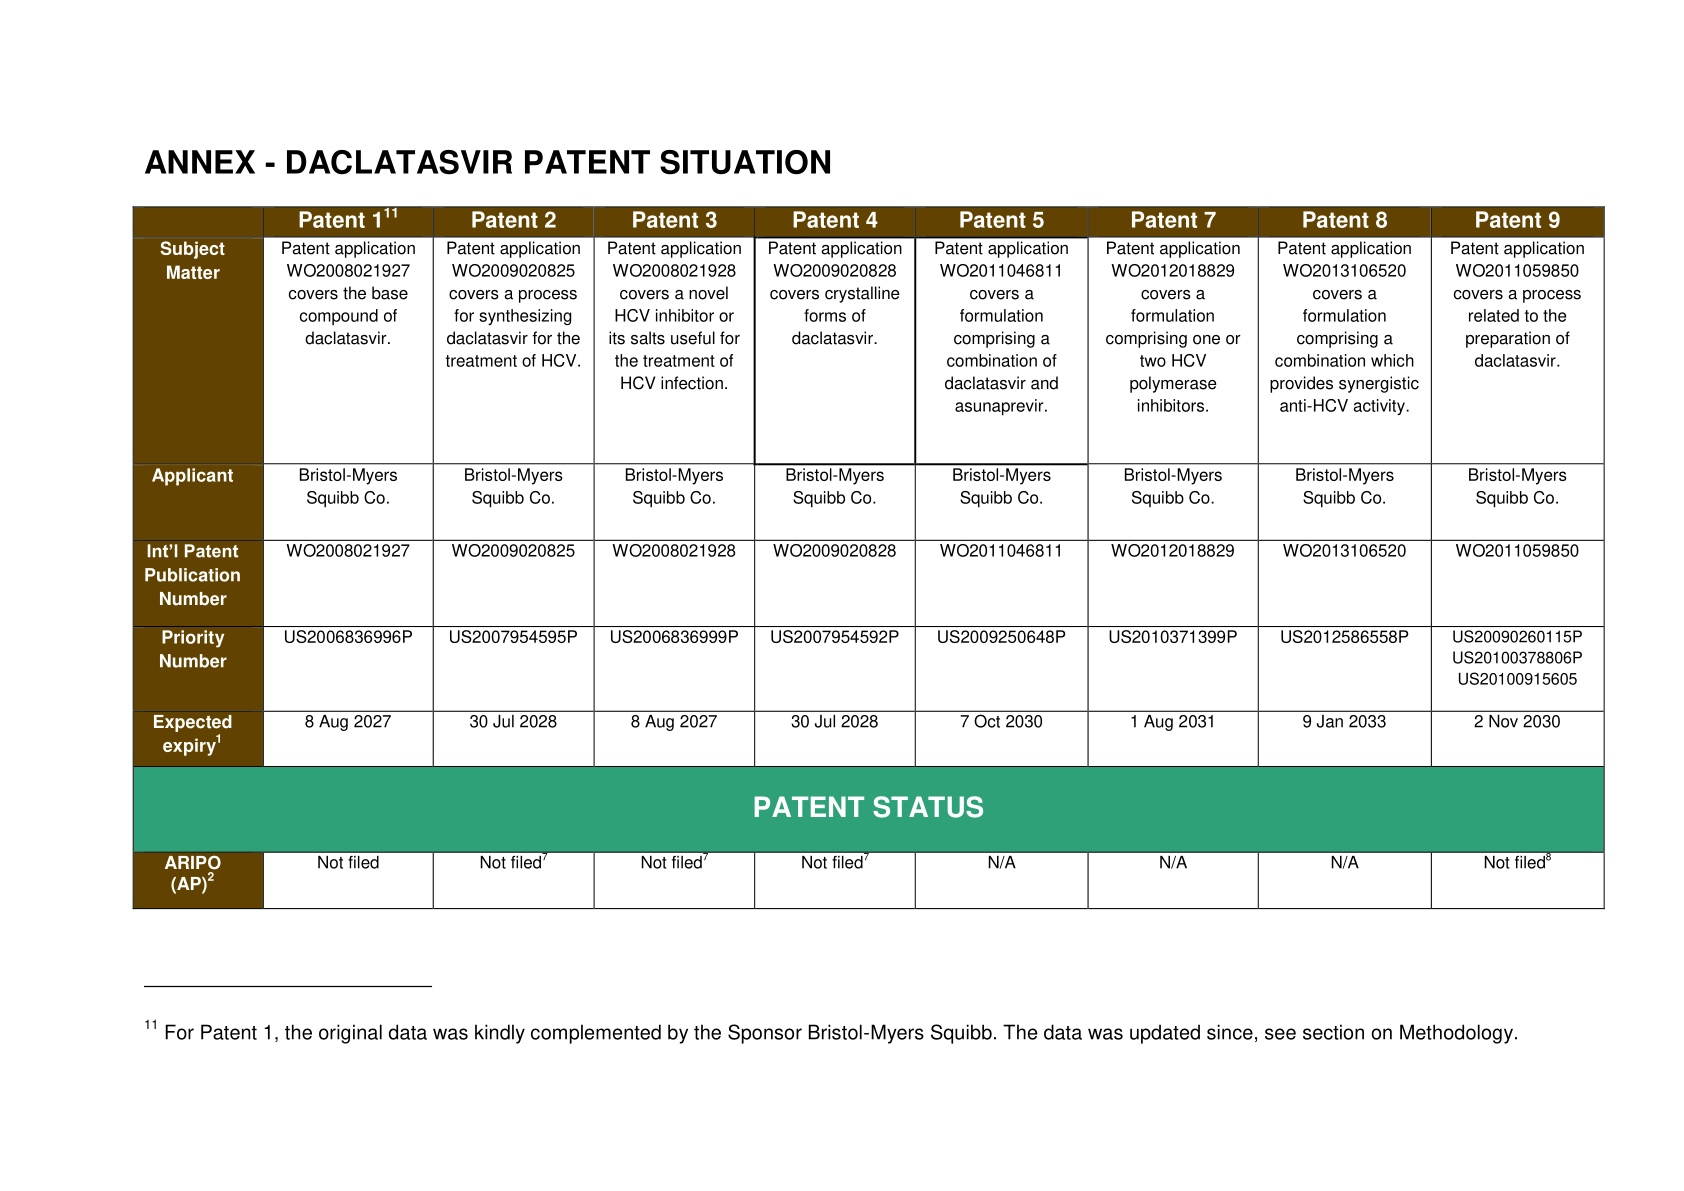merged_cells: (131, 205, 1605, 910)
